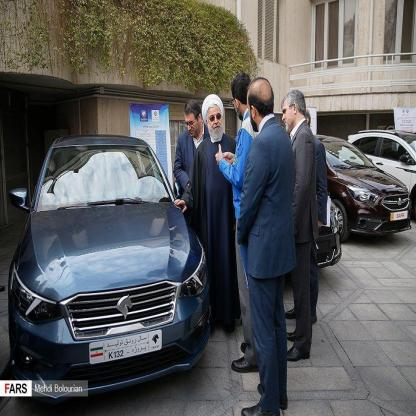Car: (7, 132, 214, 397), (298, 135, 416, 252), (350, 119, 416, 204)
